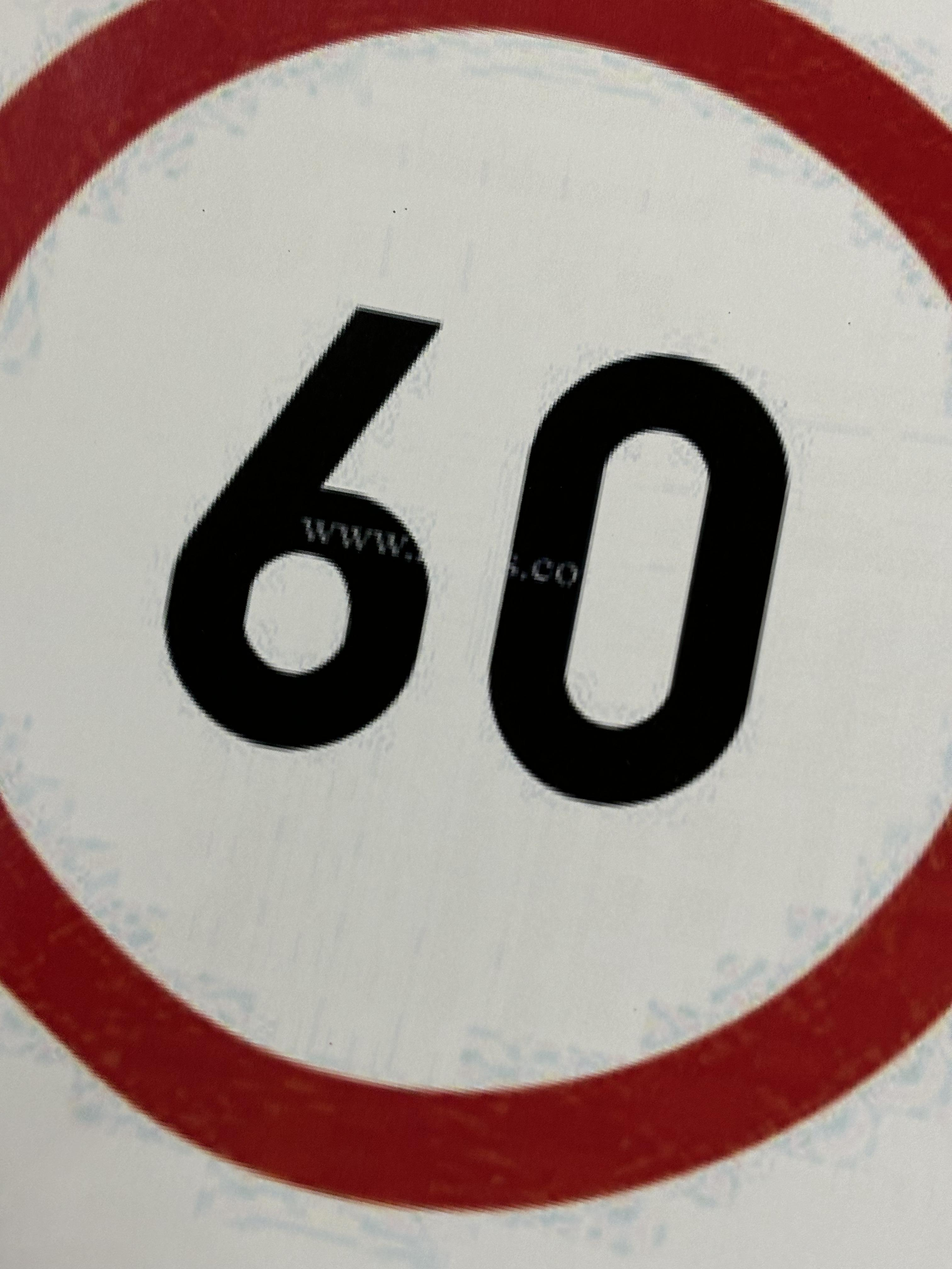60-Speed: (4, 1, 952, 1228)
